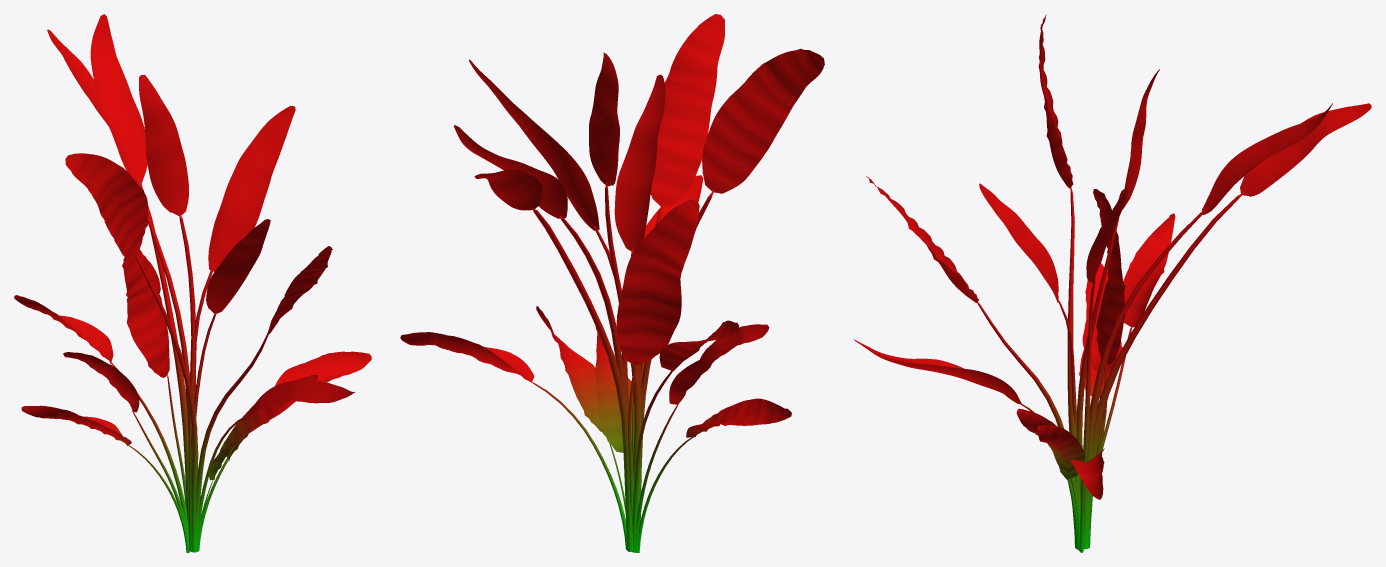
File: Bird Of Paradise_LOD2_Var12_wfypeifha.fbx
The picture shows the model from 3 angles, left to right: view 1: azimuth 30°, elevation 25°; view 2: azimuth 150°, elevation 25°; view 3: azimuth 270°, elevation 25°; orthographic projection. The views are drawn at different scales.
Parts seen in each view (by area): view 1: _4opr_Var12_LOD2; view 2: _4opr_Var12_LOD2; view 3: _4opr_Var12_LOD2.
Boxes of the visible parts, left/top/right/bottom form: _4opr_Var12_LOD2: left=14, top=14, right=371, bottom=552; _4opr_Var12_LOD2: left=400, top=14, right=824, bottom=552; _4opr_Var12_LOD2: left=853, top=14, right=1371, bottom=552.
Bounding box in the file's own units: 126 × 160 × 159.
